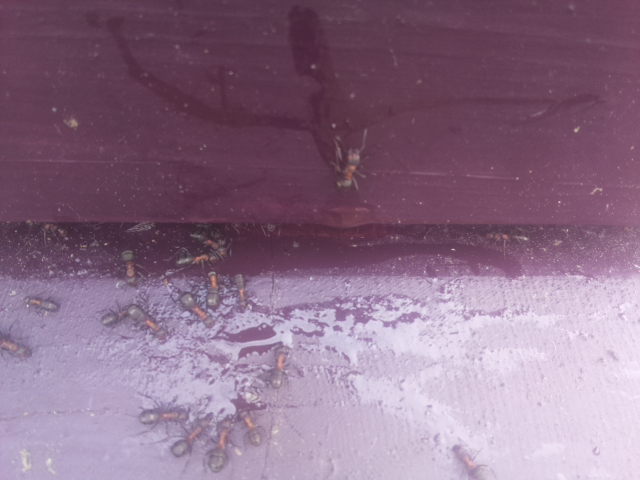ant: (328, 129, 370, 200), (118, 296, 174, 349), (164, 411, 215, 464), (171, 281, 219, 337), (201, 412, 240, 477), (175, 229, 233, 270), (264, 328, 296, 398), (443, 439, 496, 480), (114, 239, 143, 292), (238, 403, 266, 452), (0, 327, 36, 363), (137, 406, 194, 426), (232, 270, 252, 313), (205, 271, 224, 310), (23, 294, 62, 312)
